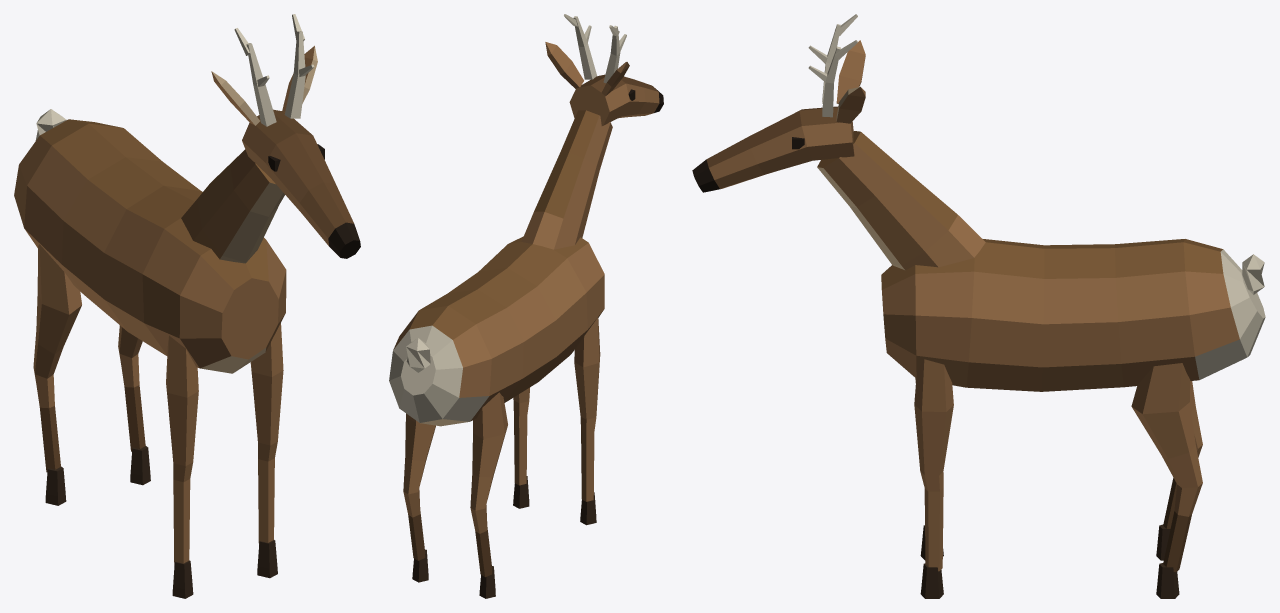
The model's file is deer.glb.
The picture shows the model from 3 angles, left to right: view 1: azimuth 30°, elevation 25°; view 2: azimuth 150°, elevation 25°; view 3: azimuth 270°, elevation 25°; orthographic projection. The views are drawn at different scales.
Parts seen in each view (by area): view 1: deer_body, deer_head, deer_neck, deer_leg_HR, deer_leg_FR, deer_leg_FL, deer_leg_HL; view 2: deer_body, deer_neck, deer_head, deer_leg_HR, deer_leg_FR, deer_leg_HL, deer_leg_FL; view 3: deer_body, deer_neck, deer_head, deer_leg_HL, deer_leg_FL, deer_leg_HR.
Part boxes in pixels (x1=…): deer_body: x1=14, y1=109, x2=286, y2=373; deer_head: x1=211, y1=14, x2=360, y2=258; deer_neck: x1=181, y1=149, x2=284, y2=263; deer_leg_HR: x1=33, y1=244, x2=81, y2=505; deer_leg_FR: x1=166, y1=335, x2=198, y2=598; deer_leg_FL: x1=250, y1=323, x2=283, y2=578; deer_leg_HL: x1=118, y1=325, x2=150, y2=485; deer_body: x1=389, y1=236, x2=604, y2=426; deer_neck: x1=521, y1=110, x2=612, y2=249; deer_head: x1=545, y1=14, x2=663, y2=125; deer_leg_HR: x1=470, y1=392, x2=507, y2=598; deer_leg_FR: x1=574, y1=318, x2=600, y2=525; deer_leg_HL: x1=403, y1=413, x2=435, y2=582; deer_leg_FL: x1=513, y1=387, x2=529, y2=508; deer_body: x1=881, y1=239, x2=1265, y2=391; deer_neck: x1=817, y1=131, x2=985, y2=270; deer_head: x1=692, y1=14, x2=865, y2=192; deer_leg_HL: x1=1131, y1=363, x2=1202, y2=598; deer_leg_FL: x1=914, y1=359, x2=953, y2=598; deer_leg_HR: x1=1156, y1=381, x2=1202, y2=560.
Size of the model in its own units: 0.2853 by 1.34 by 1.27.
